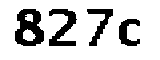2: (43, 6, 77, 48)
7: (82, 6, 117, 49)
8: (11, 7, 45, 48)
c: (118, 17, 145, 47)
